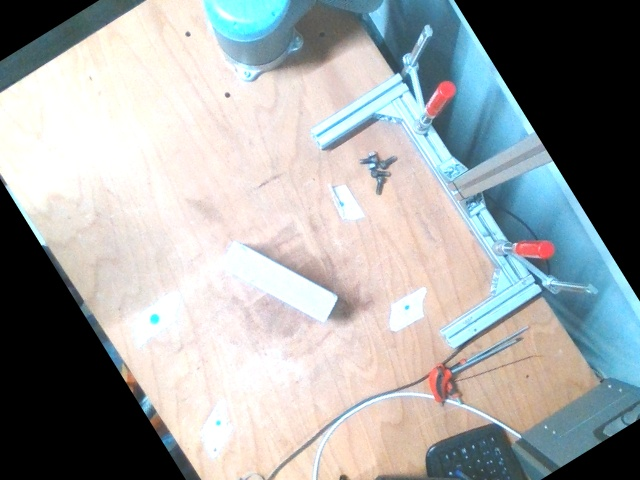brick-side: (217, 240, 338, 322)
